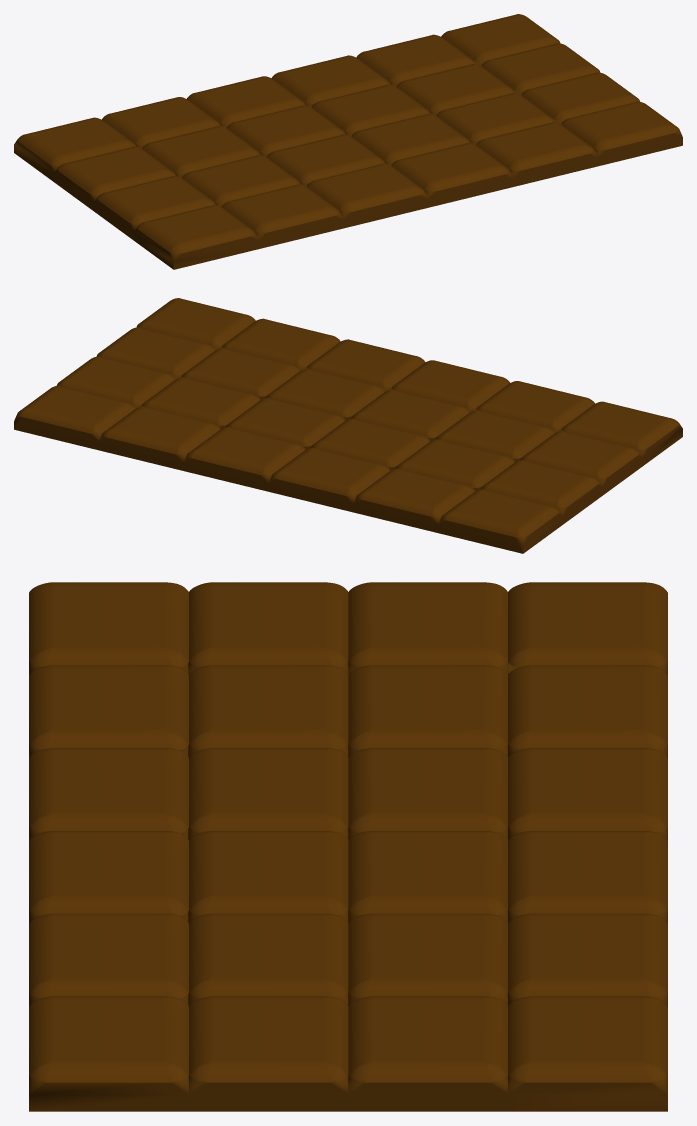
Rendered from chocolate_bar.glb.
3 renders of one model, top to bottom at view 1: azimuth 30°, elevation 25°; view 2: azimuth 150°, elevation 25°; view 3: azimuth 270°, elevation 25°, orthographic. The views are drawn at different scales.
Parts seen in each view (by area): view 1: pCube25; view 2: pCube25; view 3: pCube25.
Part boxes in pixels (x1,y1,x2,y2): pCube25: (14,14,682,269); pCube25: (14,298,682,553); pCube25: (29,582,667,1111).
Bounding box in the file's own units: 0.4373 × 0.0165 × 0.2377.
